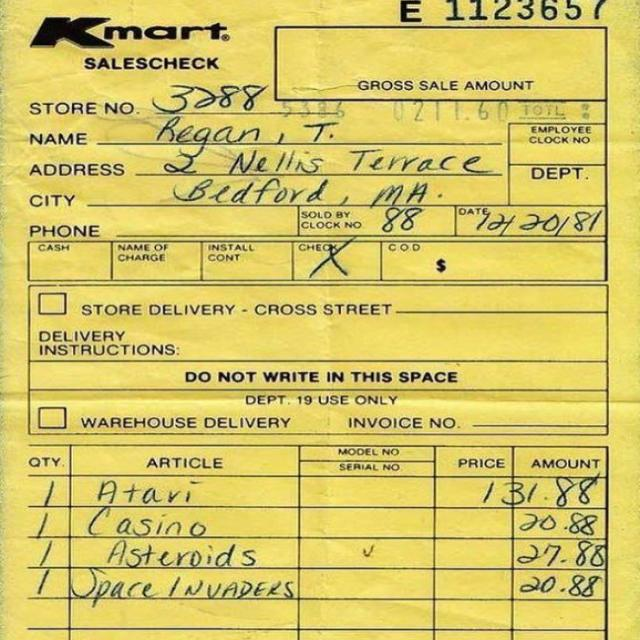address: (12, 151, 522, 209)
date: (451, 199, 612, 255)
items: (16, 430, 620, 632)
shop: (21, 6, 248, 78)
